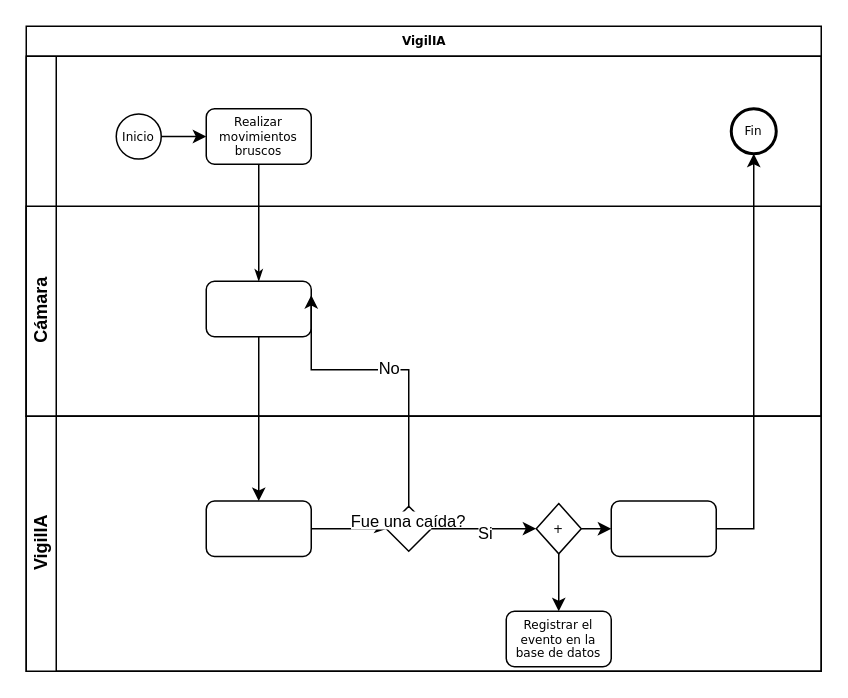
The diagram is 848 pixels wide and 698 high, and some of its shapes have lost their labels. Each missing label, with the box of its shape:
Adulto mayor: (25, 55, 821, 416)
Analizar video con el modelo de deteccion de caidas: (205, 500, 311, 556)
Captar los movimientos en video: (205, 280, 311, 337)
Enviar alerta a los familiares: (610, 500, 716, 556)
